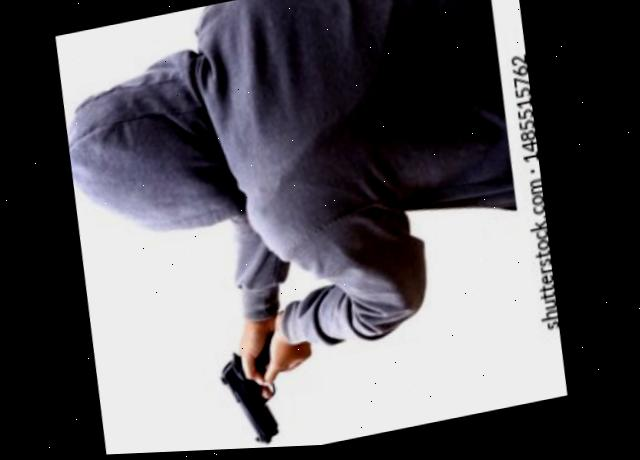pistol: (217, 329, 302, 452)
